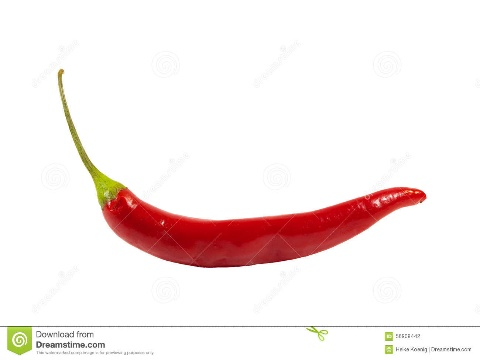Chilli: (47, 61, 453, 278)
